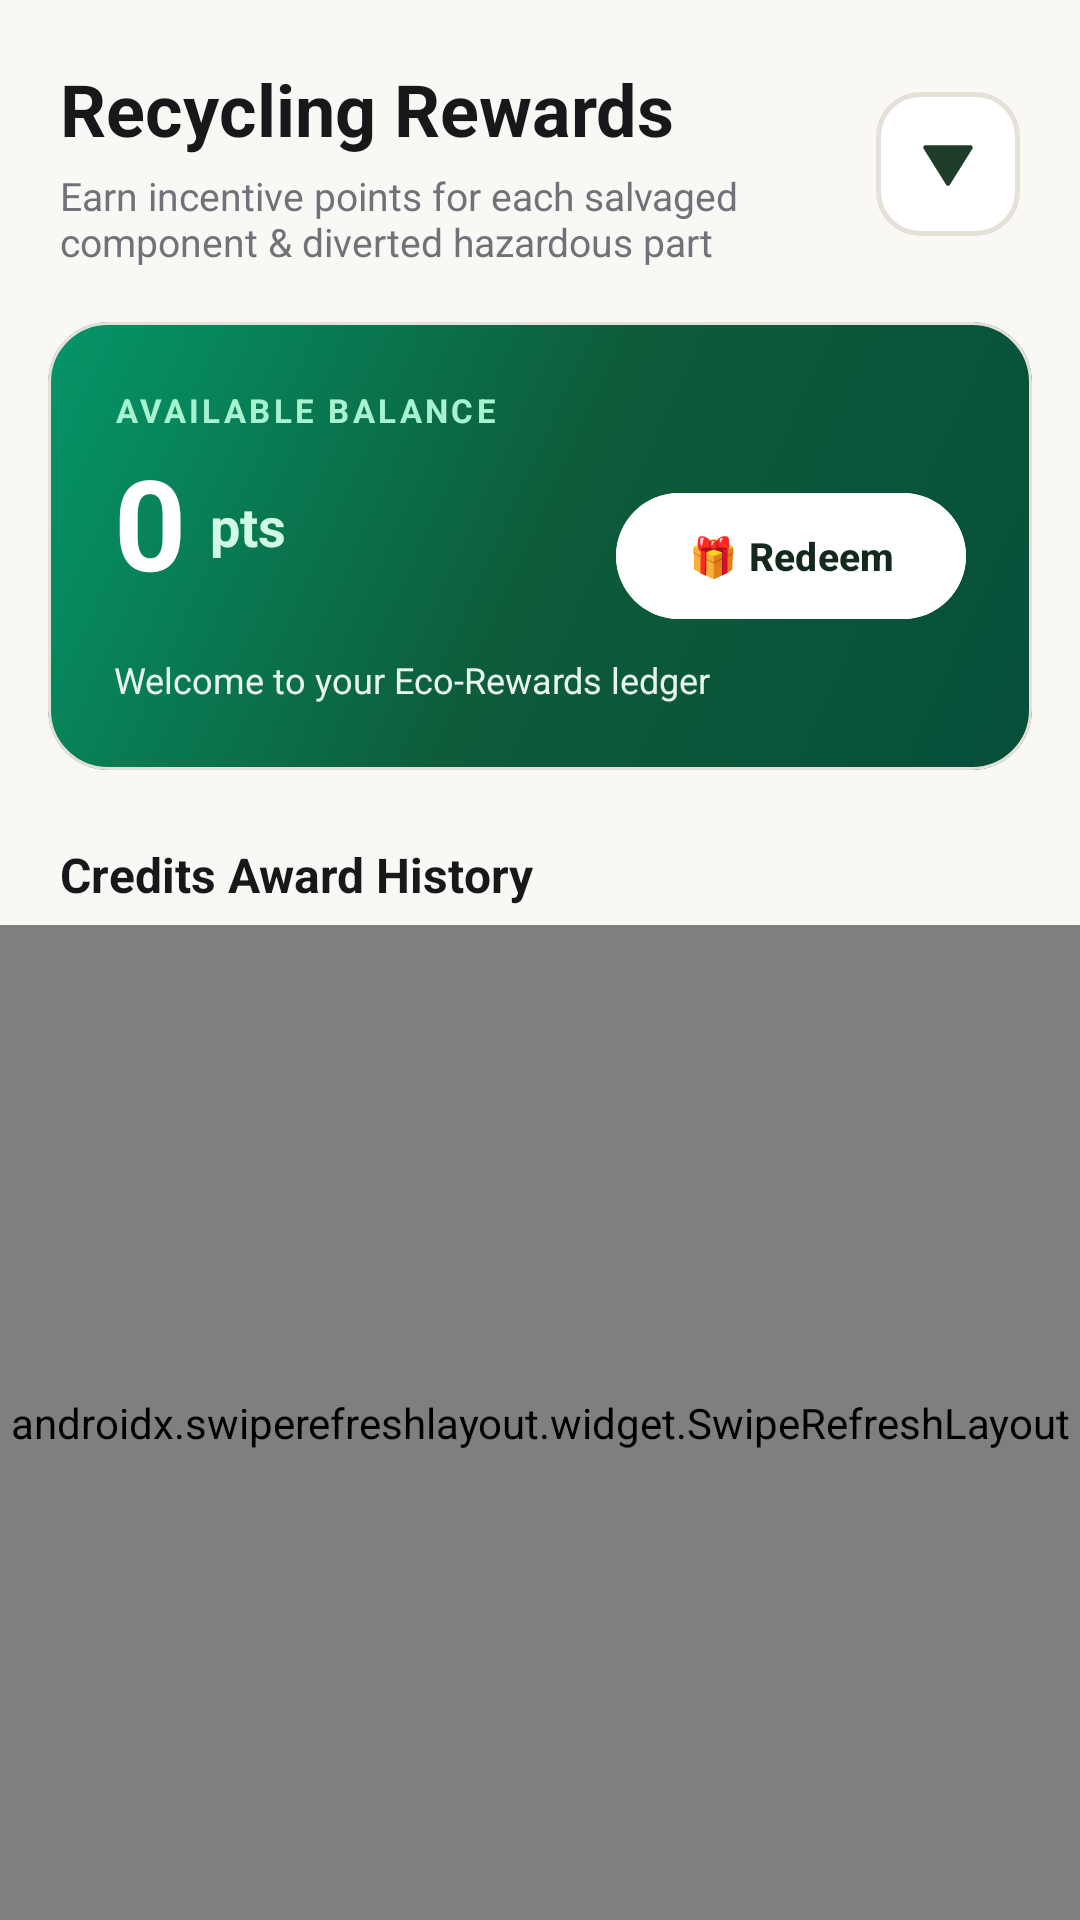

Locate icon controls on the screen. Image size 1080x1920, boxes as bbox(x1, y1, x2, y2).
Quick Action Menu: bbox(876, 92, 1020, 236)
